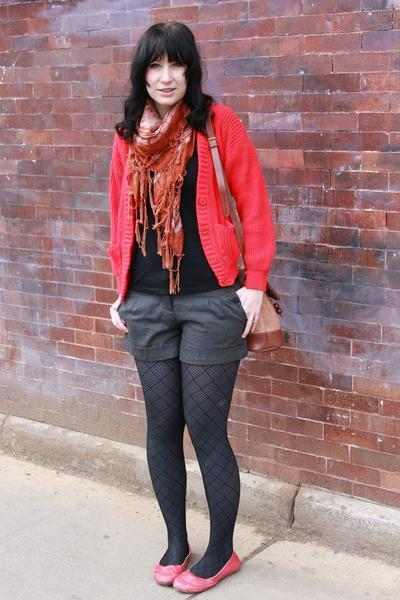bag: (180, 132, 289, 358)
jacket: (102, 104, 274, 299)
shoe: (152, 562, 180, 586)
